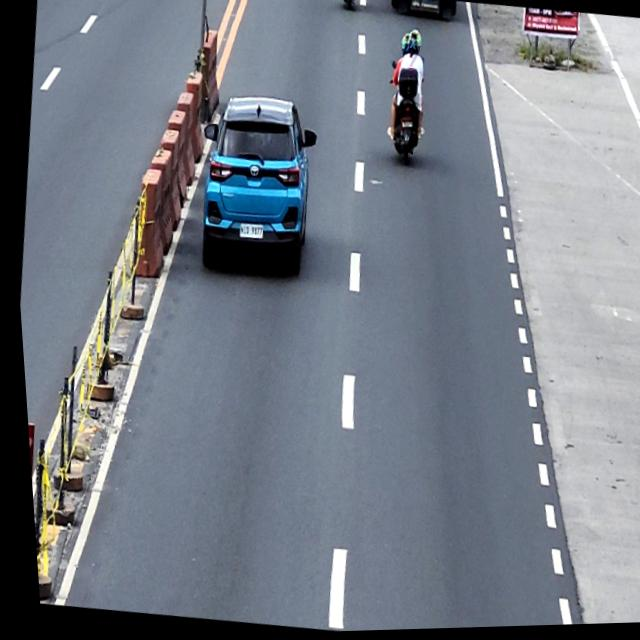Car: (182, 88, 327, 283)
License-Plate: (235, 223, 261, 242), (398, 122, 411, 131)
Motorcycle: (377, 55, 432, 165)
